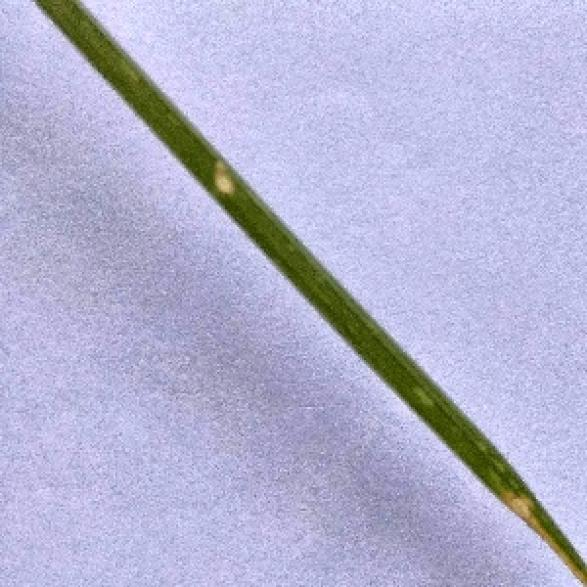Leaf_smut: (405, 378, 585, 585), (200, 147, 247, 209)
